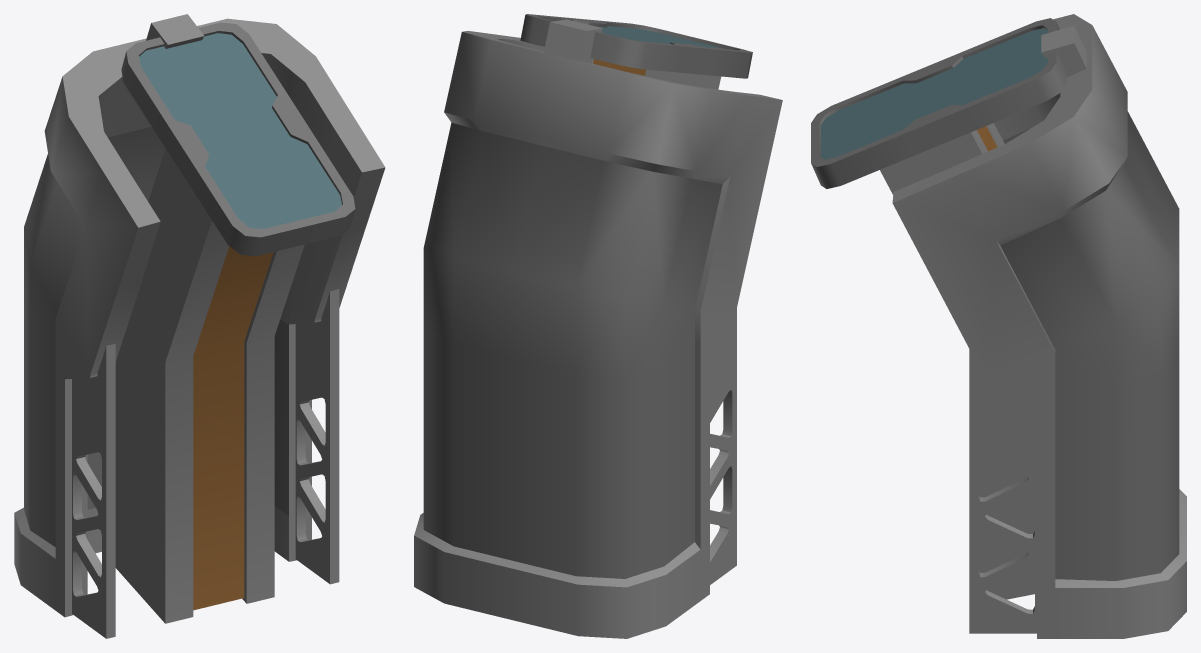
The model's file is ComputerVideo.glb.
3 views of the same model, side by side, from view 1: azimuth 30°, elevation 25°; view 2: azimuth 150°, elevation 25°; view 3: azimuth 270°, elevation 25° (orthographic).
Parts seen in each view (by area): view 1: Computer; view 2: Computer; view 3: Computer.
Boxes of the visible parts, x1,y1,x2,y2 form: Computer: [14, 14, 385, 638]; Computer: [414, 14, 782, 638]; Computer: [811, 14, 1186, 638].
Bounding box in the file's own units: 0.4697 × 1.01 × 0.6293.
